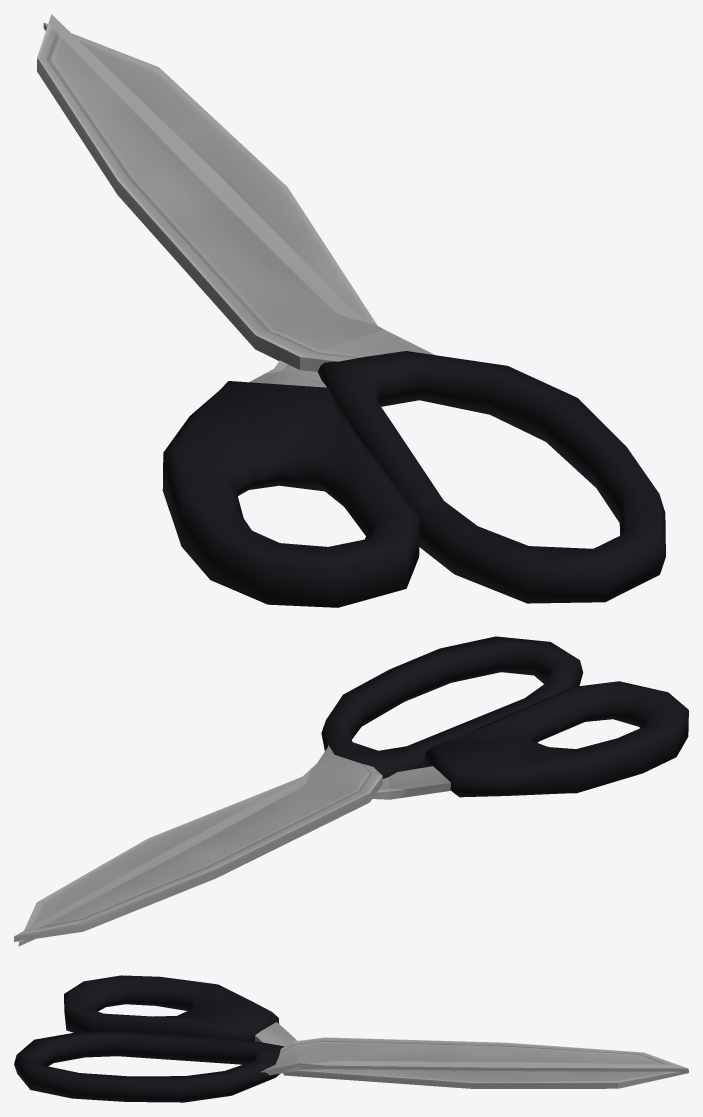
Rendered from Scissors.FBX.
The picture shows the model from 3 angles, top to bottom: view 1: azimuth 30°, elevation 25°; view 2: azimuth 150°, elevation 25°; view 3: azimuth 270°, elevation 25°; orthographic projection. The views are drawn at different scales.
Parts seen in each view (by area): view 1: Box154; view 2: Box154; view 3: Box154.
Part boxes in pixels (<box>): Box154: <box>37,14,665,607</box>; Box154: <box>14,636,688,946</box>; Box154: <box>14,975,688,1102</box>.
Size of the model in its own units: 26.78 by 4.13 by 70.35.
1 material, 1 textured.
